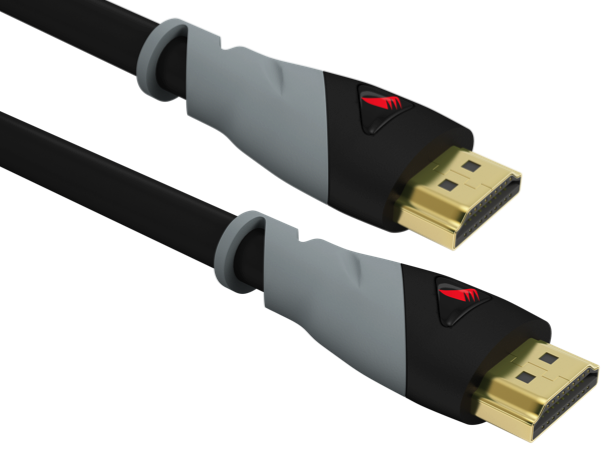Nonrec_Tangler: (15, 8, 583, 439)
